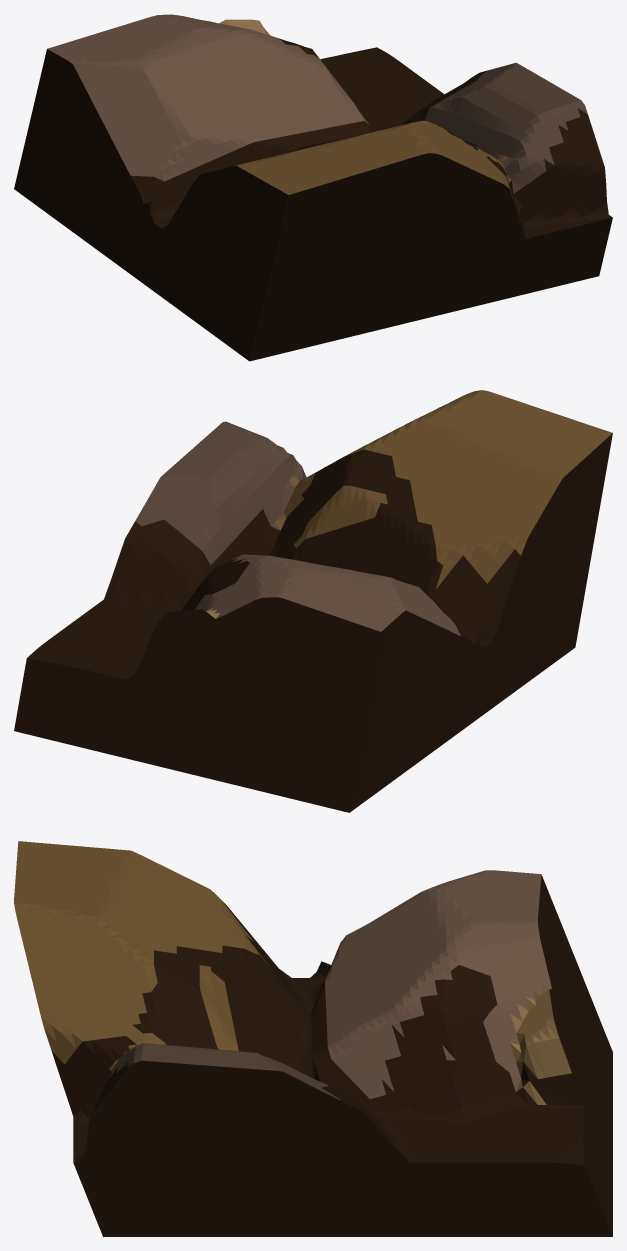
File: ixm_boss_201.glb
The picture shows the model from 3 angles, top to bottom: view 1: azimuth 30°, elevation 25°; view 2: azimuth 150°, elevation 25°; view 3: azimuth 270°, elevation 25°; orthographic projection. The views are drawn at different scales.
Visible parts, largest first — view 1: ixm_boss_201; view 2: ixm_boss_201; view 3: ixm_boss_201.
Boxes of the visible parts, bbox=[...] form: ixm_boss_201: bbox=[14, 14, 612, 361]; ixm_boss_201: bbox=[14, 390, 612, 812]; ixm_boss_201: bbox=[14, 841, 612, 1236].
Bounding box in the file's own units: 24 × 13.44 × 32.89.
